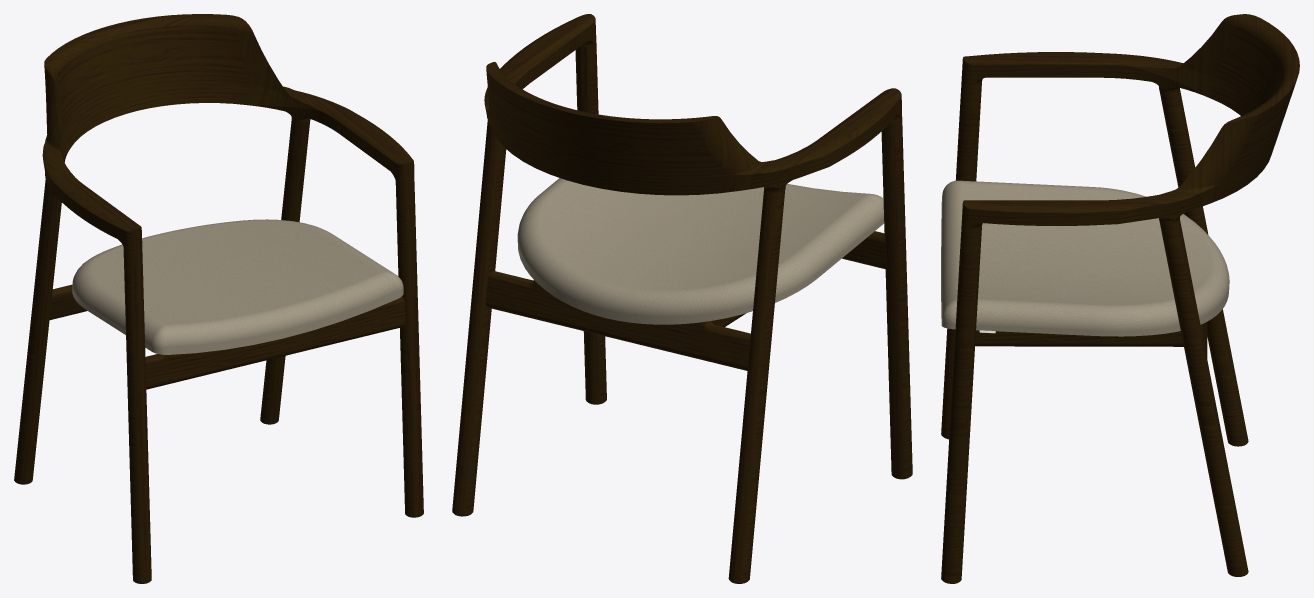
The model's file is ITY00BR00A-BNT-opt.glb.
The picture shows the model from 3 angles, left to right: view 1: azimuth 30°, elevation 25°; view 2: azimuth 150°, elevation 25°; view 3: azimuth 270°, elevation 25°; orthographic projection. The views are drawn at different scales.
Parts seen in each view (by area): view 1: meshobj#2, meshobj#4; view 2: meshobj#2, meshobj#4; view 3: meshobj#2, meshobj#4.
Boxes of the visible parts, x1,y1,x2,y2 form: meshobj#2: (14, 14, 423, 583); meshobj#4: (72, 219, 403, 354); meshobj#2: (452, 14, 912, 583); meshobj#4: (517, 178, 884, 324); meshobj#2: (941, 14, 1299, 583); meshobj#4: (941, 180, 1229, 336).
Bounding box in the file's own units: 0.5938 × 0.7607 × 0.5592.
Materials: 5 (5 with a texture image).
